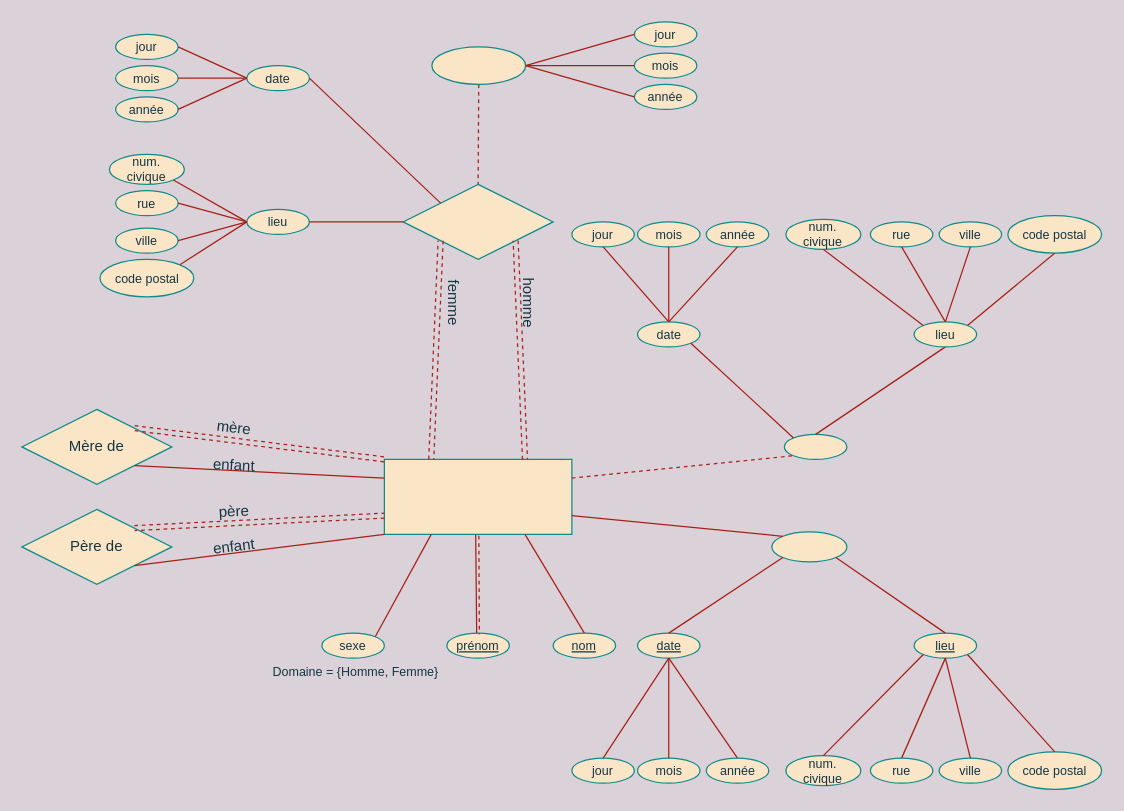
Image size: 1124x811. Some labels were removed from this diagram. The centre of each missing label's shape, as x and y in pixels:
date divorce: pixel 478 65
Individus: pixel 477 496
Marié à: pixel 477 221
mort: pixel 815 446
naissance: pixel 809 546
